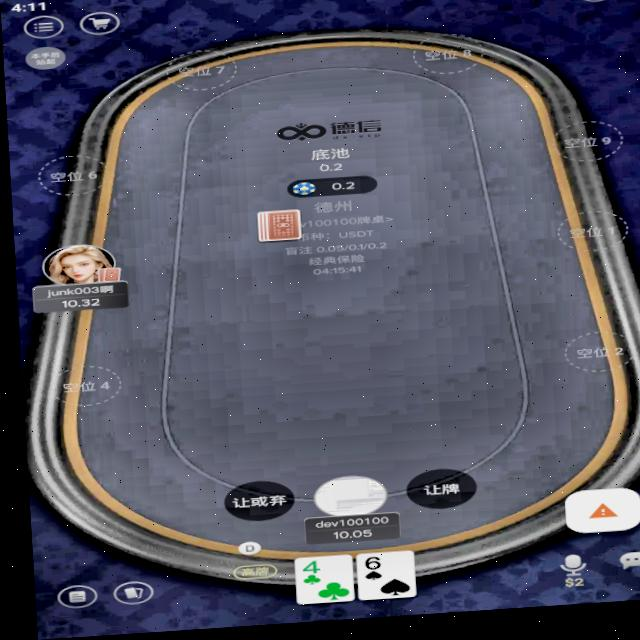4m: (292, 562, 317, 580)
6s: (355, 559, 377, 577)
